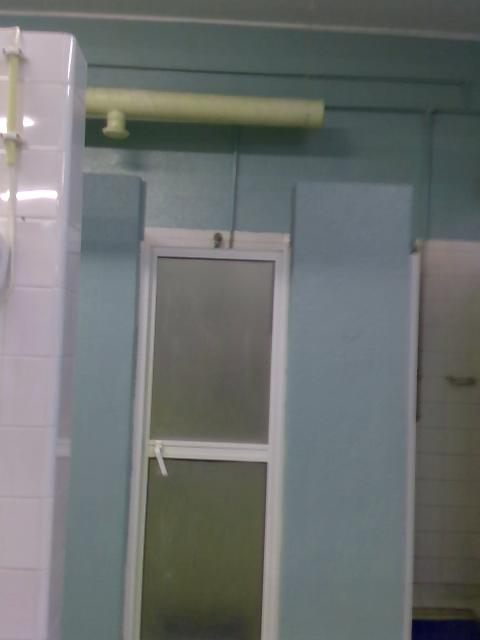closed_door: (117, 247, 292, 638)
